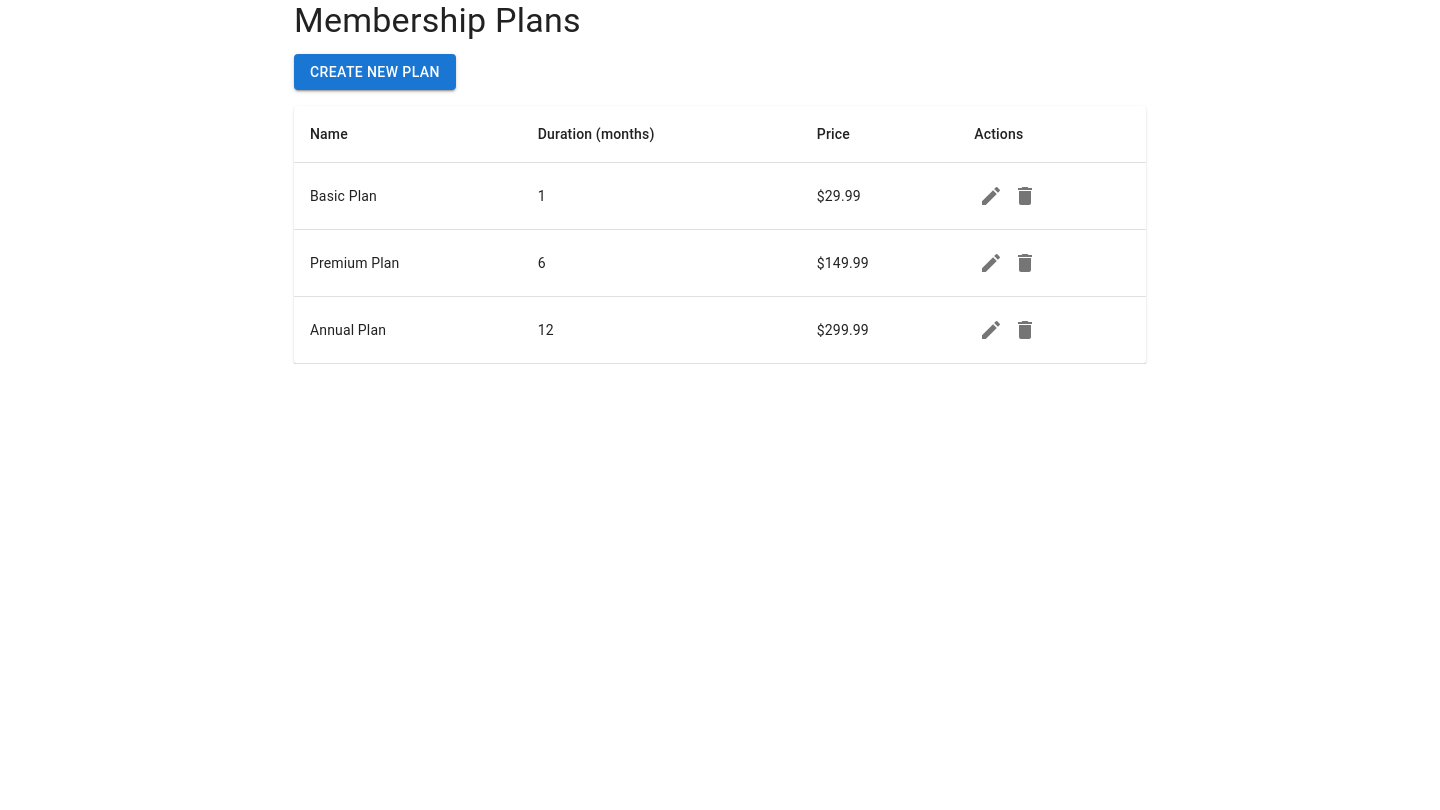
MembershipPlanPage › opens dialog when Add New Plan button is clicked
Click the button "Create New Plan": point(375, 72) [294,54,456,90]
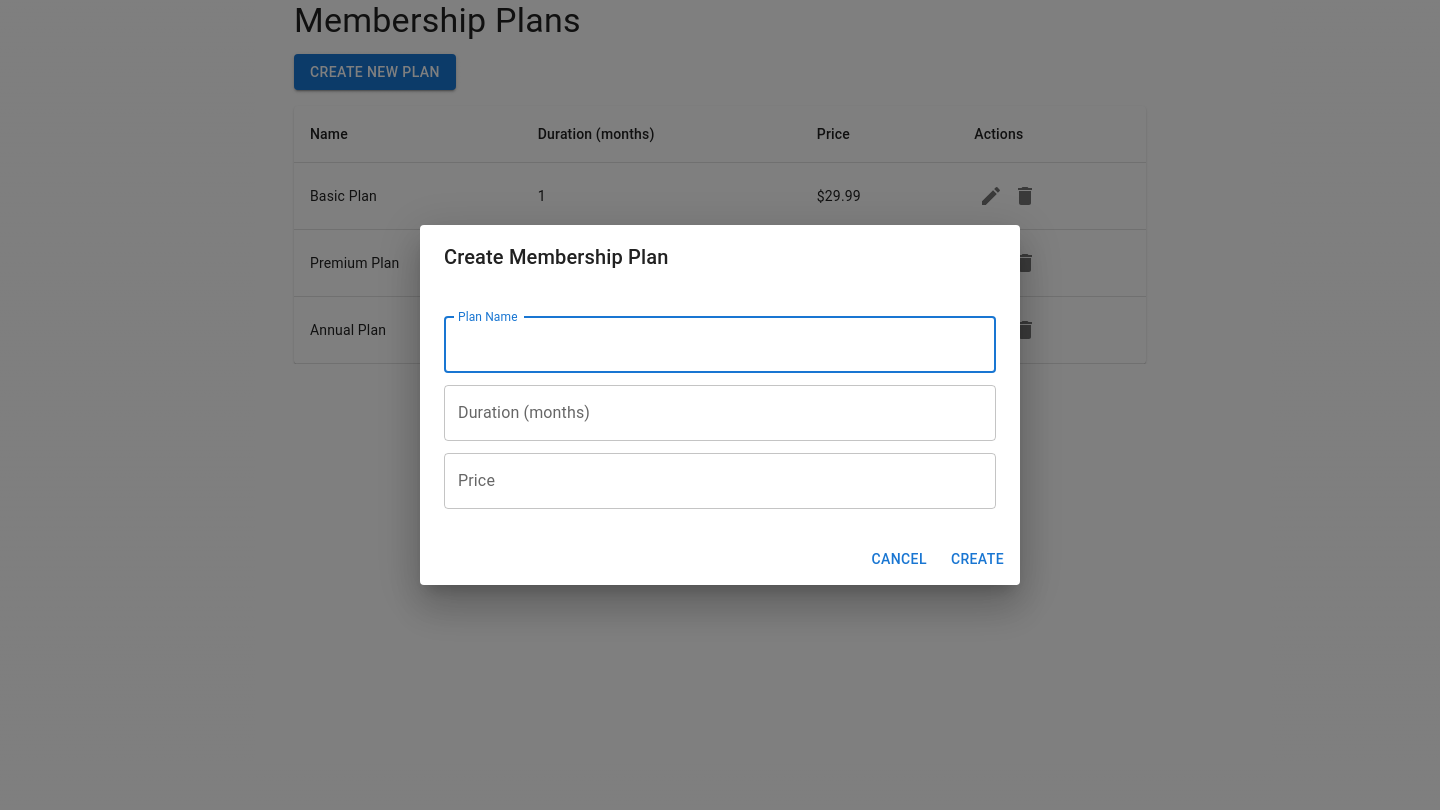
expect the heading "Create Membership Plan" is shown: met, box [444,245,668,269]
